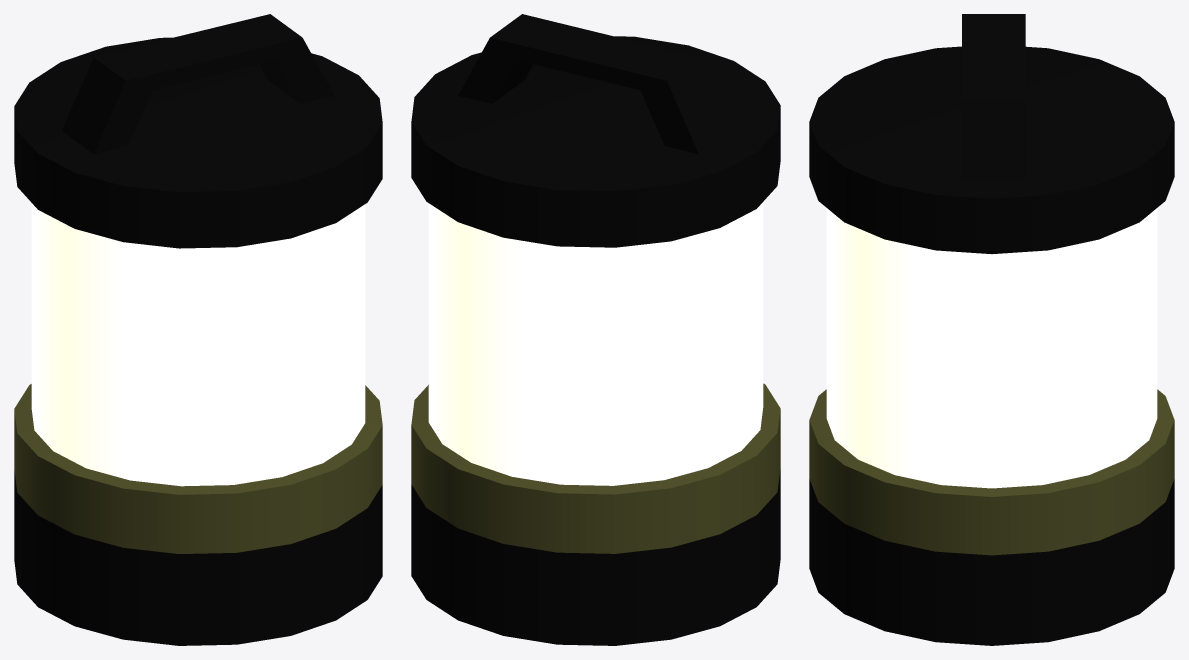
The model's file is lamparaConLuz.fbx.
3 renders of one model, left to right at view 1: azimuth 30°, elevation 25°; view 2: azimuth 150°, elevation 25°; view 3: azimuth 270°, elevation 25°, orthographic.
Parts seen in each view (by area): view 1: LamparaBaseLuz; view 2: LamparaBaseLuz; view 3: LamparaBaseLuz.
Part boxes in pixels (x1,y1,x2,y2): LamparaBaseLuz: (14, 14, 382, 645); LamparaBaseLuz: (411, 14, 780, 645); LamparaBaseLuz: (809, 14, 1174, 645).
Size of the model in its own units: 0.516 by 0.7991 by 0.516.
